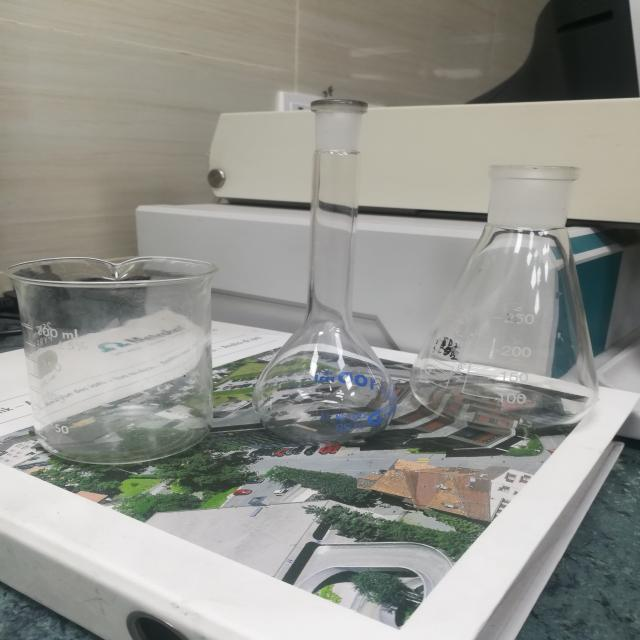Beaker: (7, 221, 227, 509)
Conical_Flask: (426, 149, 616, 452)
Volumetric_Flask: (242, 80, 402, 450)
